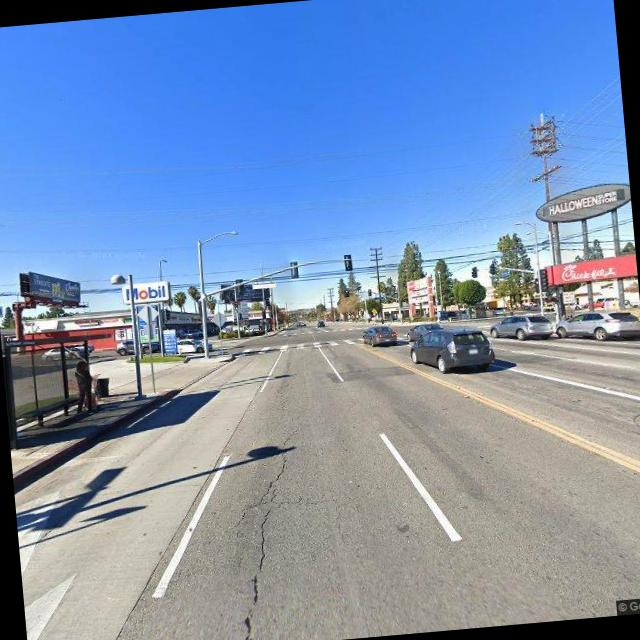crack: (212, 428, 322, 640)
